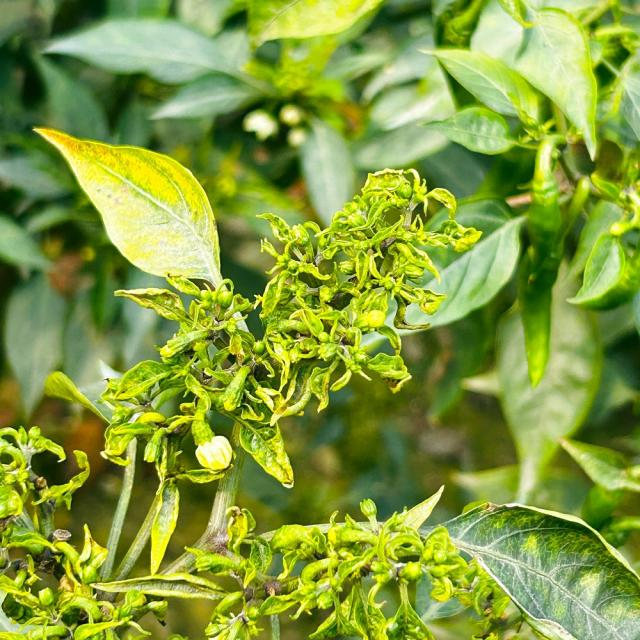Chilli_Leaf_Curl: (2, 2, 637, 637), (33, 126, 481, 492), (32, 124, 224, 292), (425, 501, 639, 638), (505, 3, 599, 161)
